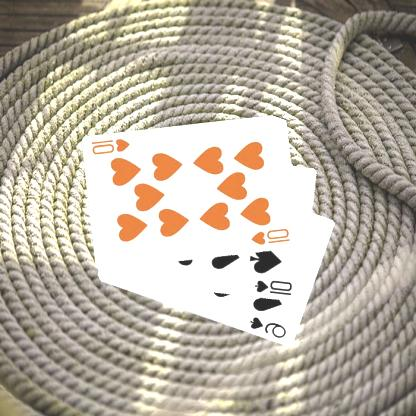10H: (90, 135, 134, 156), (250, 226, 293, 246)
10S: (254, 278, 296, 297)
9S: (249, 314, 290, 340)
